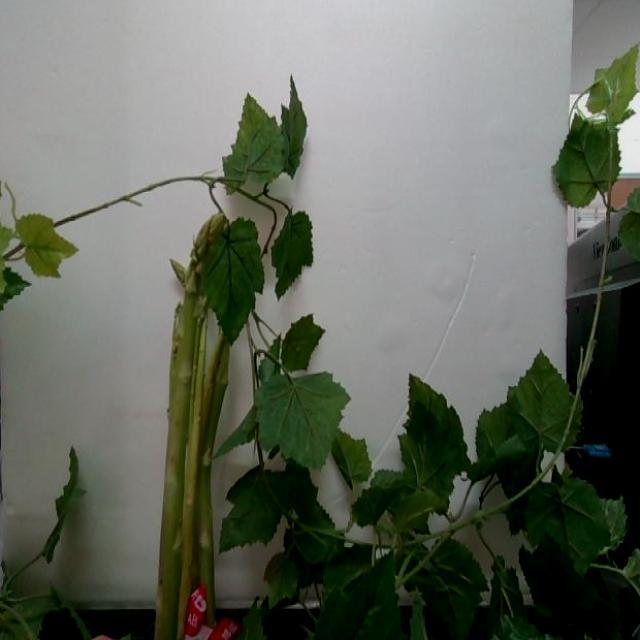aspargus: (152, 210, 226, 640)
